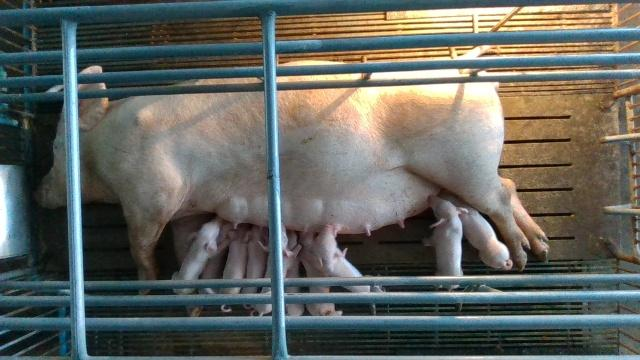piglet: (295, 225, 377, 292), (446, 195, 516, 270), (249, 228, 305, 316), (174, 215, 232, 294), (210, 224, 266, 305), (300, 231, 343, 315), (426, 195, 463, 289)
sow-sleep-lactate: (34, 45, 550, 316)
